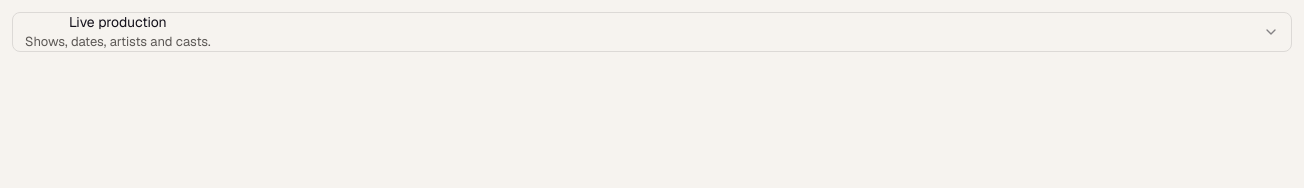
Test: OrgKindSelect › shows the current kind's title and lists both kinds with descriptions
Click the dropdown at (118, 22), box left=12, top=12, right=1292, bottom=52
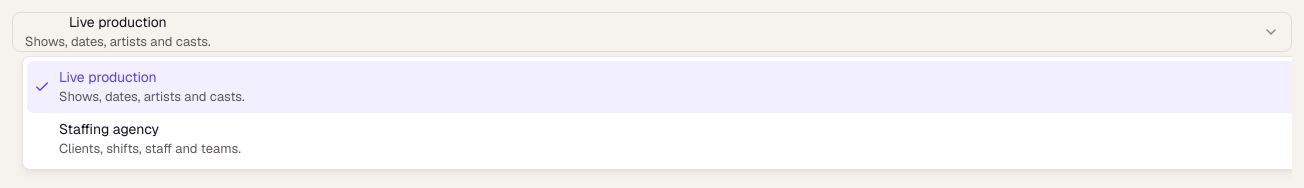
Result: the option "Staffing agency Clients, shifts, staff and teams." is shown at left=59, top=120, right=241, bottom=157
Result: the text "Clients, shifts, staff and teams." is shown at left=59, top=139, right=241, bottom=159
